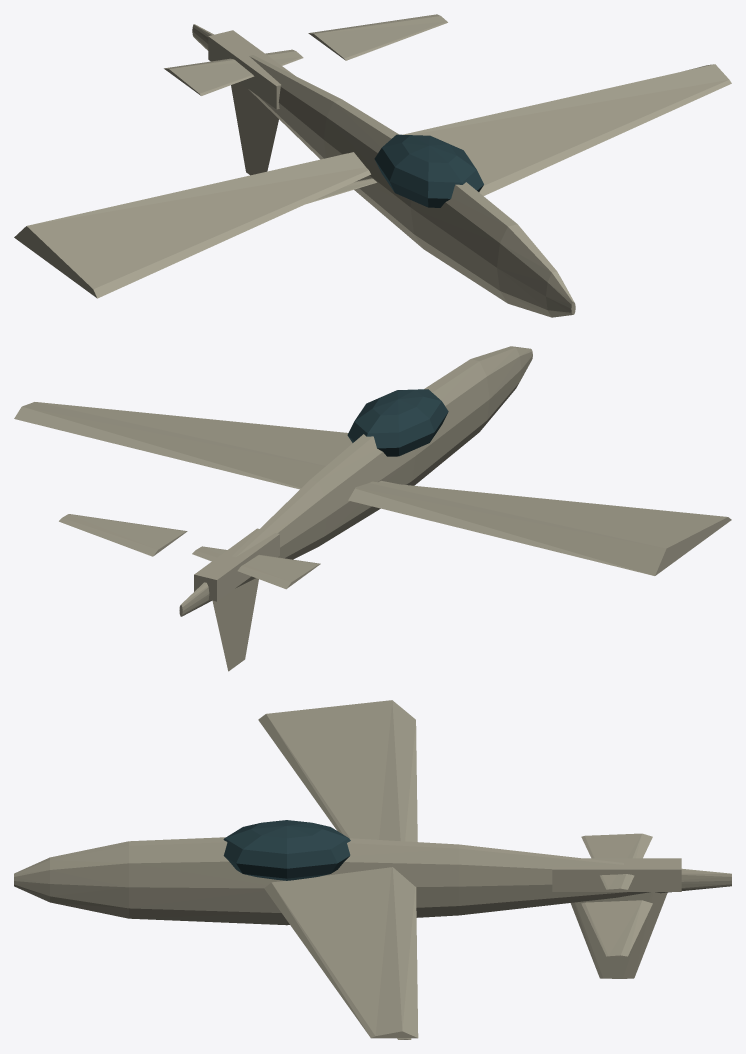
3 views of the same model, one above another, from view 1: azimuth 30°, elevation 25°; view 2: azimuth 150°, elevation 25°; view 3: azimuth 270°, elevation 25° (orthographic). The views are drawn at different scales.
Parts seen in each view (by area): view 1: Wing_L, Fuselage, Wing_R, Cockpit, Elevator_R, Rudder, TailBoom, Elevator_L; view 2: Wing_L, Fuselage, Wing_R, Cockpit, Rudder, Elevator_R, TailBoom, Elevator_L; view 3: Fuselage, Wing_R, Wing_L, Cockpit, TailBoom, Rudder, Elevator_R, Elevator_L.
Boxes of the visible parts, x1=… form: Wing_L: x1=14, y1=152, x2=370, y2=298; Fuselage: x1=192, y1=24, x2=575, y2=317; Wing_R: x1=402, y1=64, x2=731, y2=195; Cockpit: x1=374, y1=134, x2=483, y2=207; Elevator_R: x1=308, y1=14, x2=447, y2=60; Rudder: x1=231, y1=82, x2=278, y2=175; TailBoom: x1=208, y1=30, x2=294, y2=109; Elevator_L: x1=164, y1=49, x2=303, y2=95; Wing_L: x1=348, y1=481, x2=731, y2=575; Fuselage: x1=179, y1=346, x2=532, y2=616; Wing_R: x1=14, y1=402, x2=352, y2=489; Cockpit: x1=347, y1=389, x2=448, y2=456; Rudder: x1=212, y1=578, x2=258, y2=671; Elevator_R: x1=59, y1=514, x2=187, y2=556; TailBoom: x1=194, y1=528, x2=279, y2=601; Elevator_L: x1=192, y1=546, x2=320, y2=589; Fuselage: x1=14, y1=837, x2=731, y2=925; Wing_R: x1=264, y1=867, x2=418, y2=1038; Wing_L: x1=258, y1=700, x2=417, y2=841; Cockpit: x1=223, y1=820, x2=350, y2=880; TailBoom: x1=552, y1=858, x2=681, y2=891; Rudder: x1=570, y1=892, x2=667, y2=978; Elevator_R: x1=581, y1=900, x2=652, y2=956; Elevator_L: x1=581, y1=833, x2=652, y2=889.
Bounding box in the file's own units: 9.5 × 2.11 × 9.
